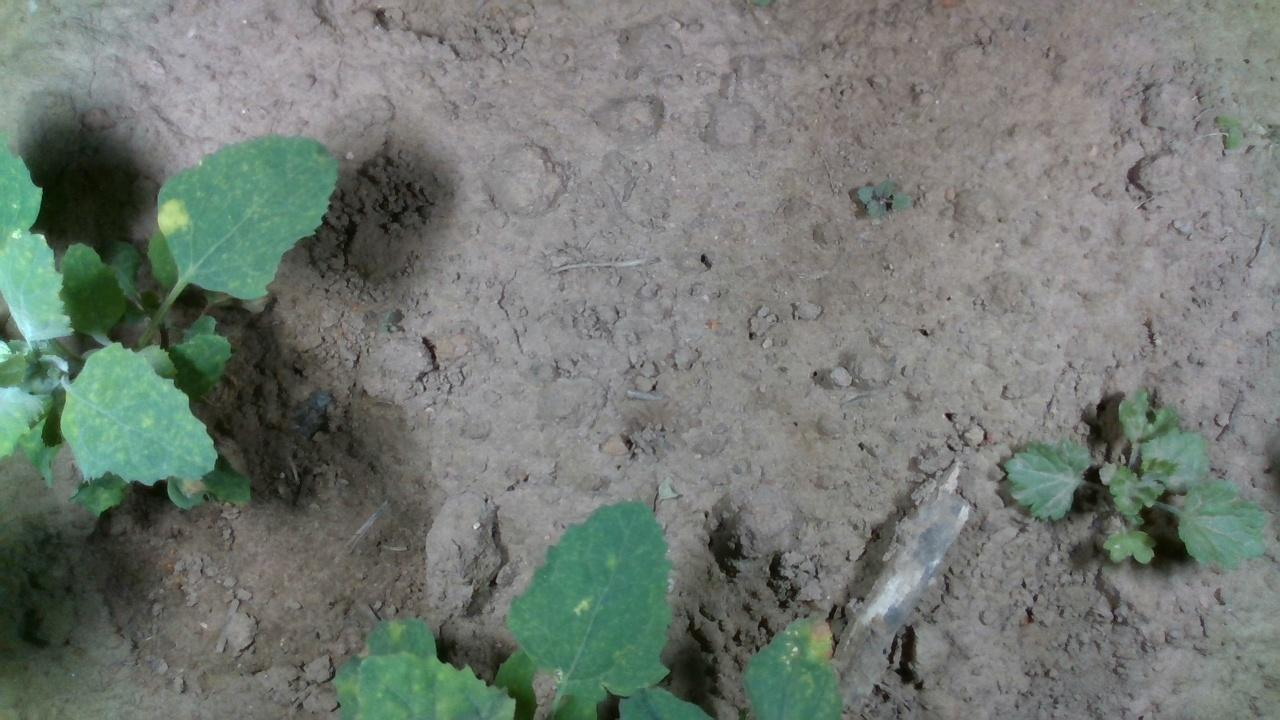weed: (848, 174, 910, 222)
